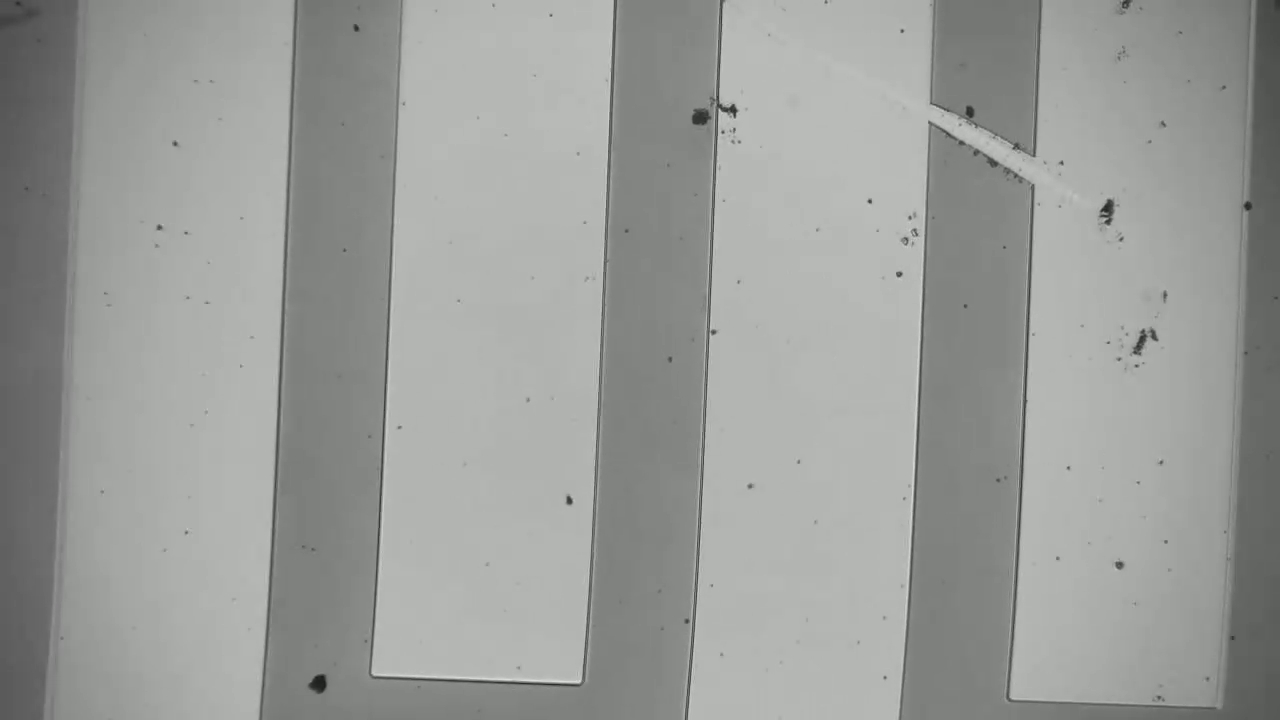Short_circuit: (907, 69, 1078, 215)
